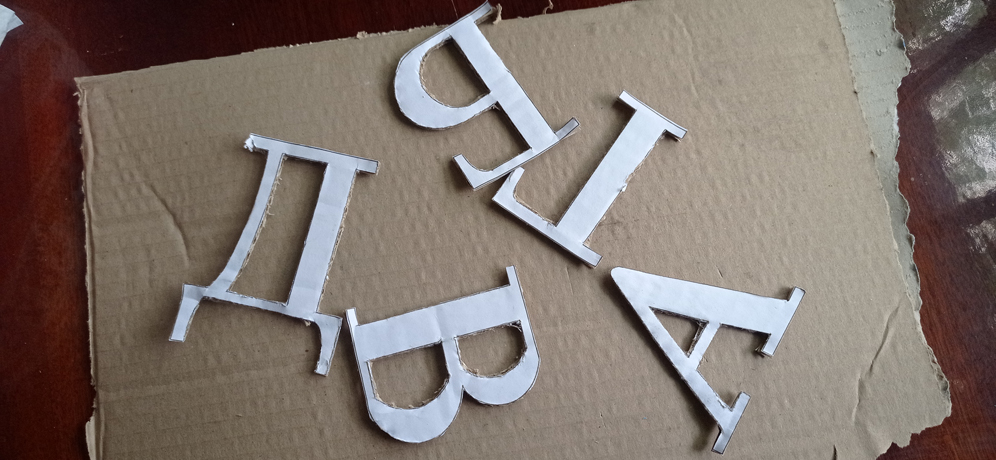a: (608, 265, 807, 455)
b: (392, 3, 583, 193)
d: (169, 131, 382, 378)
g: (491, 88, 689, 268)
v: (344, 262, 540, 446)
